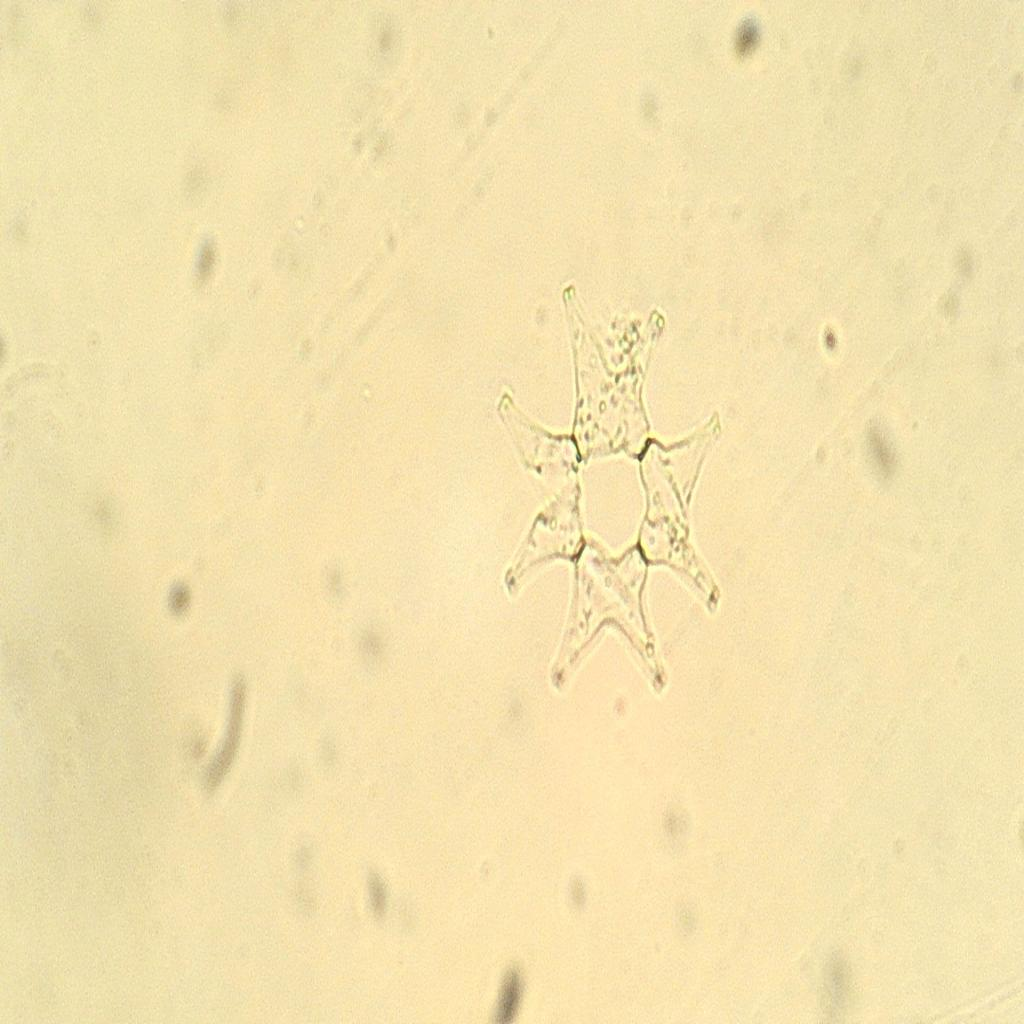Pediastrum_1F0: (481, 257, 748, 729)
